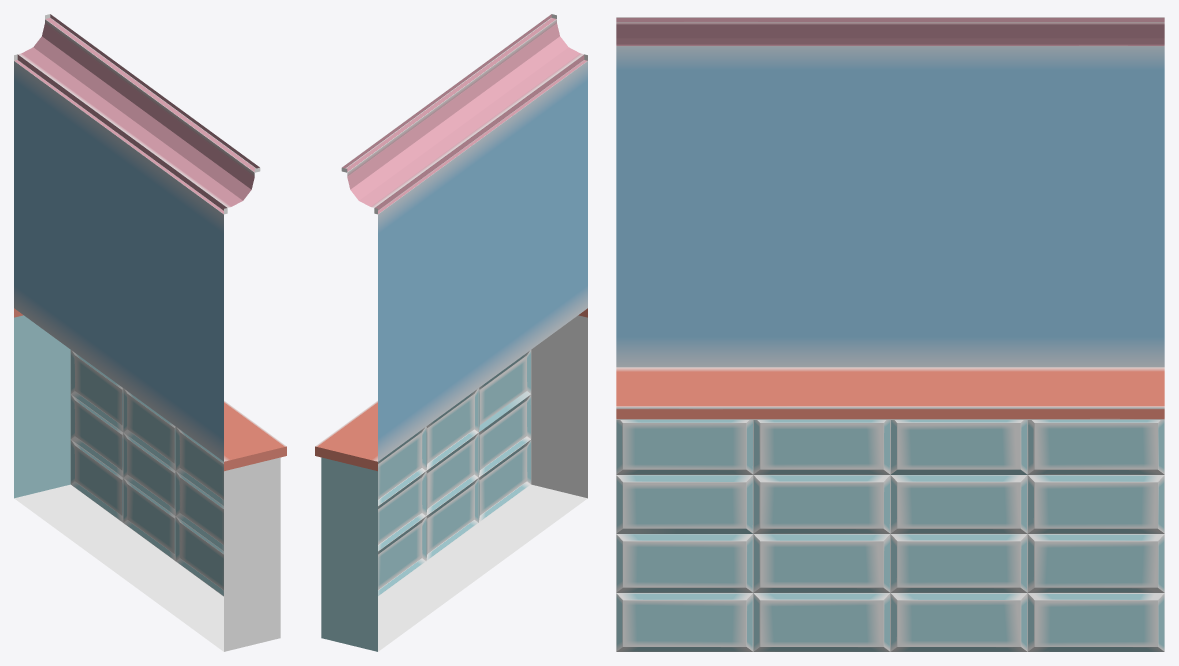
File: Mur2.fbx
3 views of the same model, side by side, from view 1: azimuth 30°, elevation 25°; view 2: azimuth 150°, elevation 25°; view 3: azimuth 270°, elevation 25° (orthographic). The views are drawn at different scales.
Visible parts, largest first — view 1: Mur2; view 2: Mur2; view 3: Mur2.
Boxes of the visible parts, x1,y1,x2,y2 form: Mur2: (14,14,286,651); Mur2: (315,14,587,651); Mur2: (616,17,1164,651).
Size of the model in its own units: 34.66 by 200 by 250.
